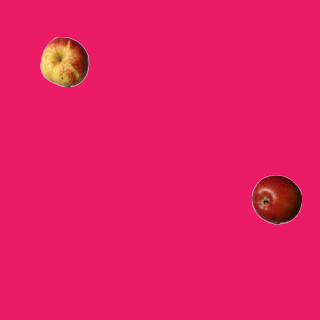Apple Braeburn: (251, 174, 301, 224)
Apple Red Yellow 1: (39, 36, 89, 86)
